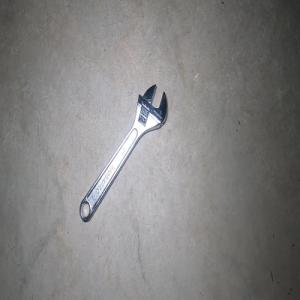Wrench: (79, 83, 166, 220)
